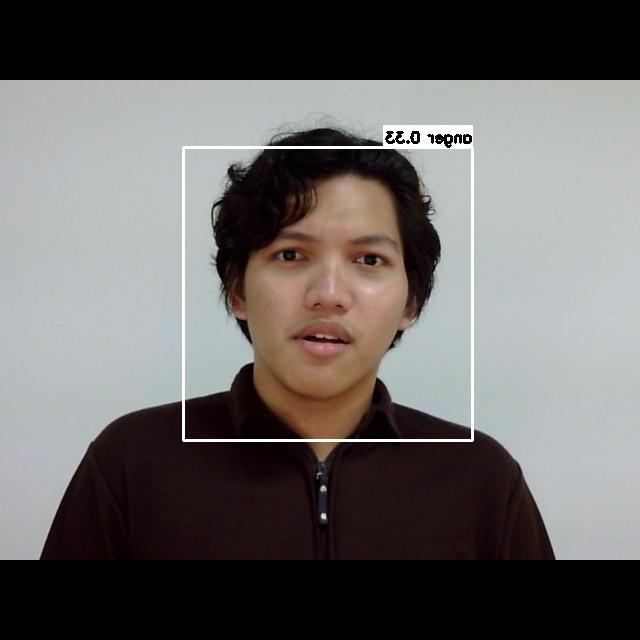Surprised: (231, 199, 422, 413)
